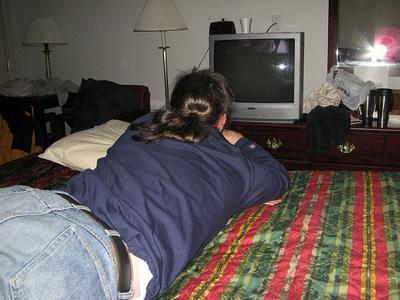person: (2, 70, 289, 299)
